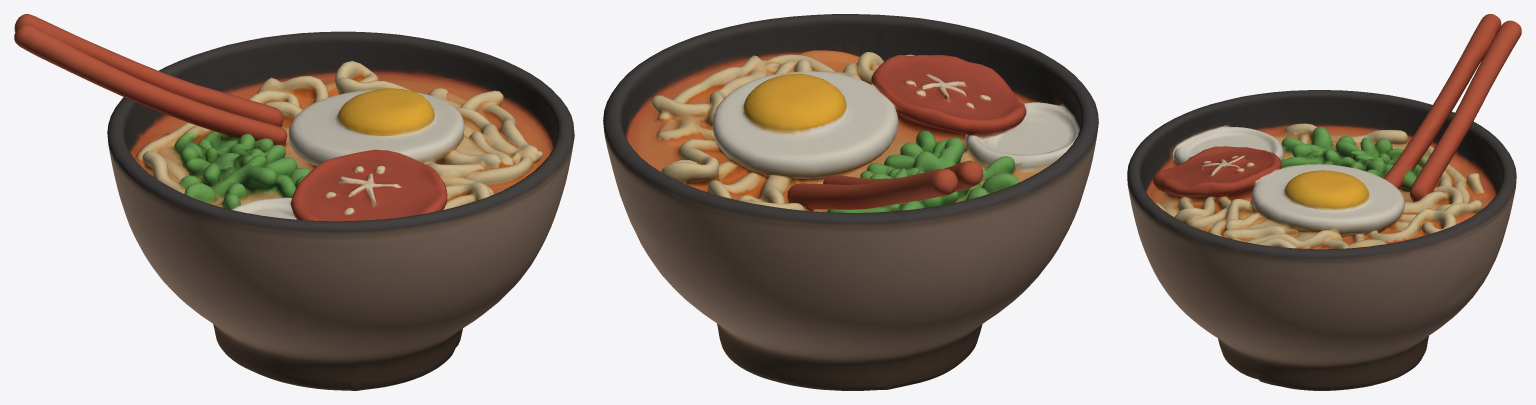
The model's file is ramen-2.glb.
3 views of the same model, side by side, from view 1: azimuth 30°, elevation 25°; view 2: azimuth 150°, elevation 25°; view 3: azimuth 270°, elevation 25° (orthographic). The views are drawn at different scales.
Visible parts, largest first — view 1: tripo_node_35a76664-6cc4-42c8-a2bd-4b83b98a1dc9; view 2: tripo_node_35a76664-6cc4-42c8-a2bd-4b83b98a1dc9; view 3: tripo_node_35a76664-6cc4-42c8-a2bd-4b83b98a1dc9.
Part boxes in pixels (bbox=[...]): tripo_node_35a76664-6cc4-42c8-a2bd-4b83b98a1dc9: bbox=[14, 14, 574, 390]; tripo_node_35a76664-6cc4-42c8-a2bd-4b83b98a1dc9: bbox=[603, 14, 1098, 390]; tripo_node_35a76664-6cc4-42c8-a2bd-4b83b98a1dc9: bbox=[1127, 14, 1521, 390].
Bounding box in the file's own units: 0.9995 × 0.6606 × 0.9517.
Materials: 1 (1 with a texture image).
